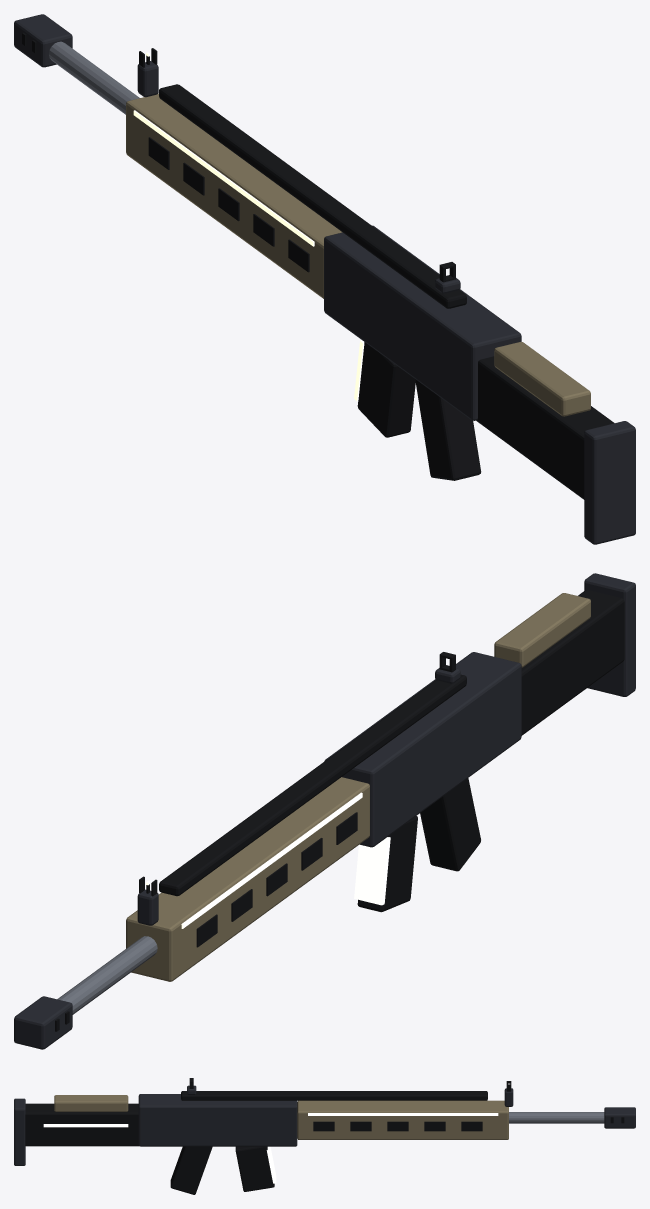
Rendered from marksman.glb.
The picture shows the model from 3 angles, top to bottom: view 1: azimuth 30°, elevation 25°; view 2: azimuth 150°, elevation 25°; view 3: azimuth 270°, elevation 25°; orthographic projection. The views are drawn at different scales.
Visible parts, largest first — view 1: Body, Magazine, IronSights; view 2: Body, Magazine, IronSights; view 3: Body, Magazine, IronSights.
Part boxes in pixels (x1,y1,x2,y2): Body: [14, 14, 635, 544]; Magazine: [354, 340, 415, 437]; IronSights: [137, 48, 460, 293]; Body: [14, 573, 635, 1049]; Magazine: [354, 816, 417, 912]; IronSights: [137, 652, 460, 925]; Body: [14, 1091, 635, 1194]; Magazine: [235, 1146, 276, 1191]; IronSights: [187, 1078, 513, 1106].
Size of the model in its own units: 0.058 by 0.2341 by 1.18.
